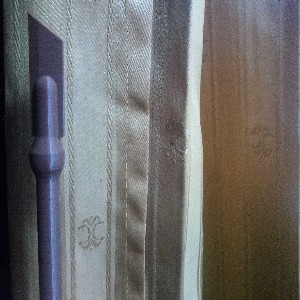cutter: (26, 11, 66, 300)
